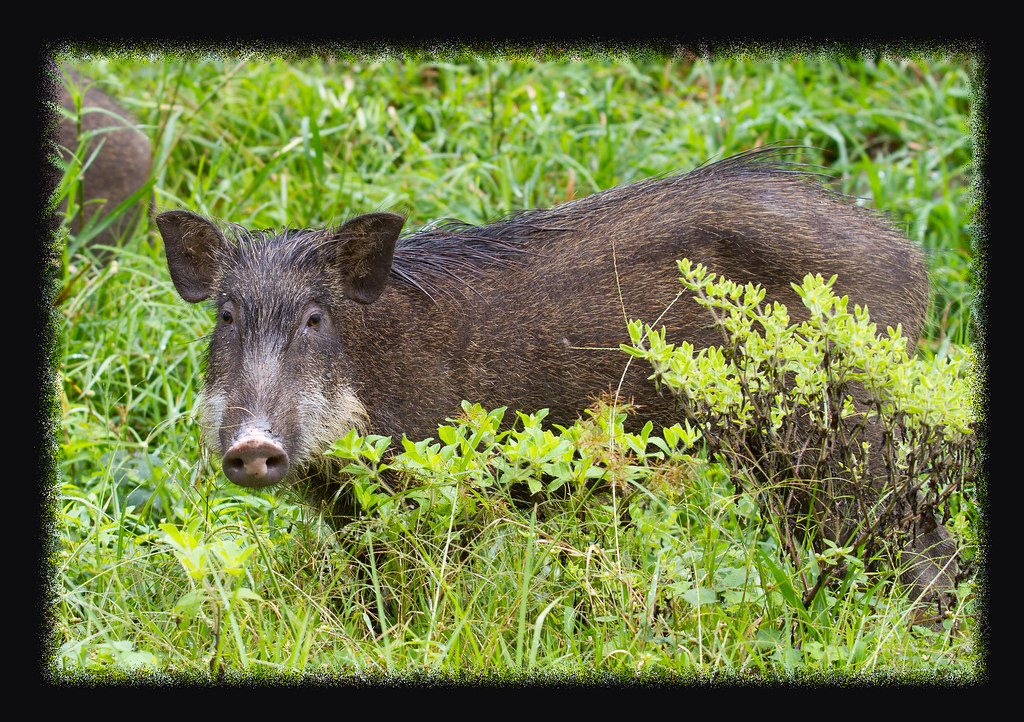wild boar: (141, 135, 972, 597)
